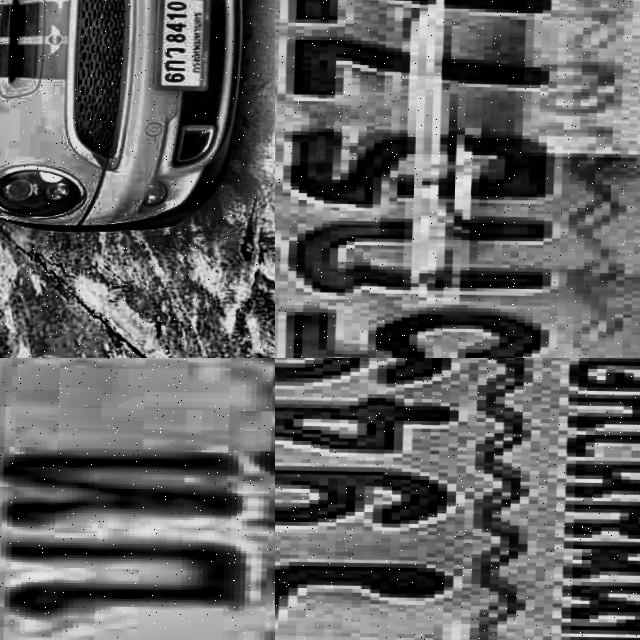license-plate: (275, 0, 640, 358), (275, 358, 640, 640), (0, 358, 275, 640), (150, 0, 216, 91)
